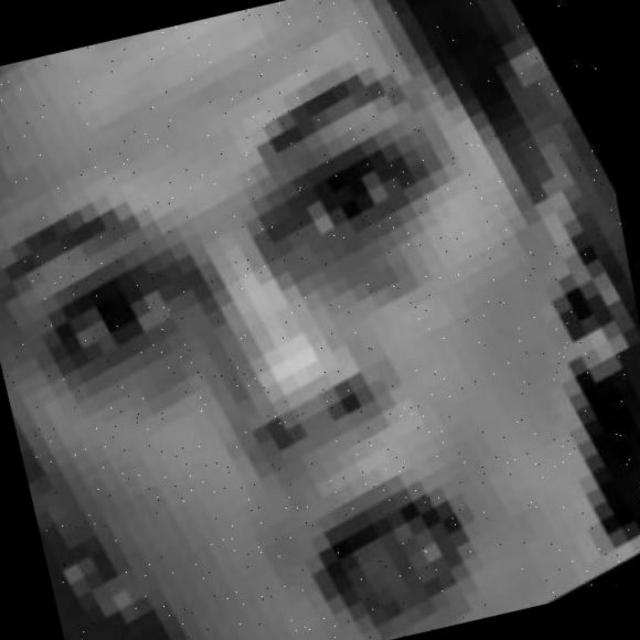Surprised: (20, 81, 639, 640)
